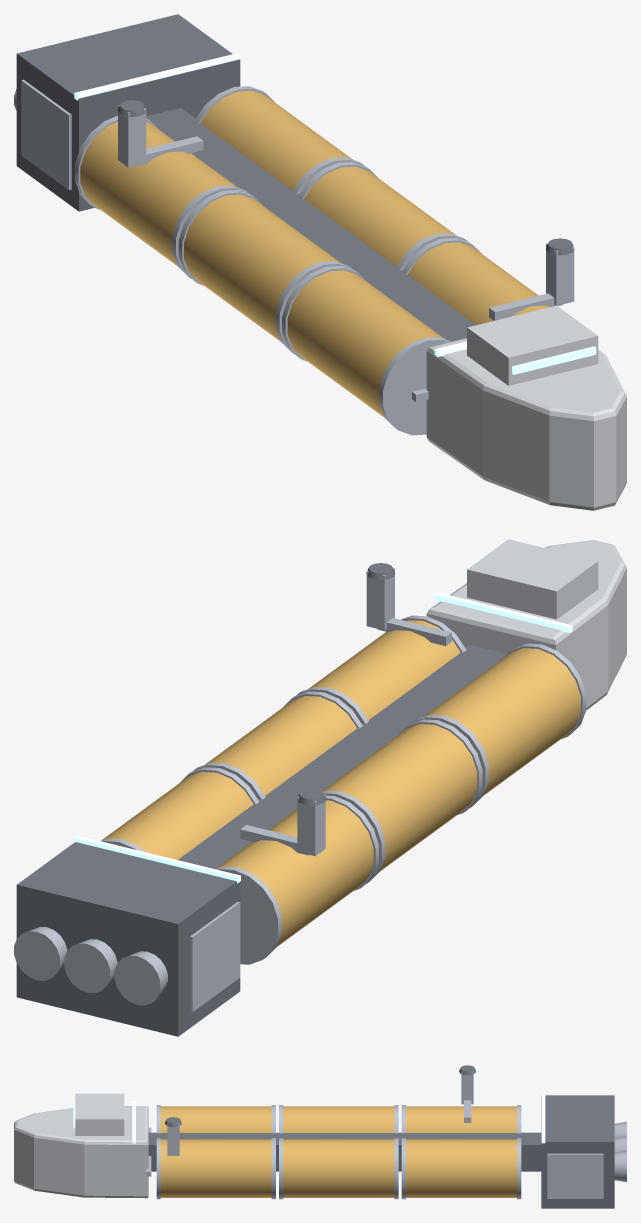
Rendered from testbed_hauler.glb.
The picture shows the model from 3 angles, top to bottom: view 1: azimuth 30°, elevation 25°; view 2: azimuth 150°, elevation 25°; view 3: azimuth 270°, elevation 25°; orthographic projection. The views are drawn at different scales.
Visible parts, largest first — view 1: testbed_hauler_mesh; view 2: testbed_hauler_mesh; view 3: testbed_hauler_mesh.
Boxes of the visible parts, bbox=[...] form: testbed_hauler_mesh: bbox=[14, 14, 626, 510]; testbed_hauler_mesh: bbox=[14, 539, 626, 1036]; testbed_hauler_mesh: bbox=[14, 1065, 626, 1208].
Bounding box in the file's own units: 11.4 × 8.2 × 50.
